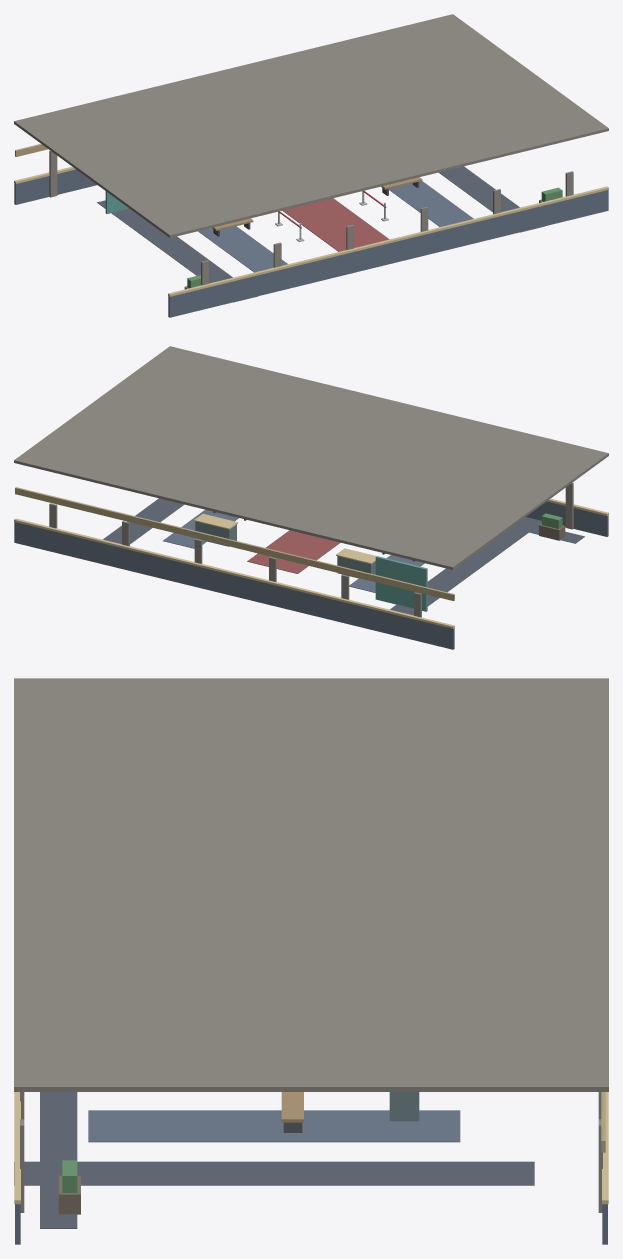
The model's file is arena-concourse-dressing.glb.
3 renders of one model, top to bottom at view 1: azimuth 30°, elevation 25°; view 2: azimuth 150°, elevation 25°; view 3: azimuth 270°, elevation 25°, orthographic. The views are drawn at different scales.
Visible parts, largest first — view 1: ConcourseCeil, WainscotSouth, CarpetRunner, FloorBorder, ChairRailSouth, AisleStrip, AisleStrip.001, WainscotNorth, FloorBorder.001; view 2: ConcourseCeil, WainscotNorth, HeaderNorth, FloorBorder, ChairRailNorth, IrisBackdrop, CarpetRunner, WainscotSouth, FloorBorder.001, AisleStrip.001, ServiceCounter.001, AisleStrip (+1 smaller); view 3: ConcourseCeil, FloorBorder.001, AisleStrip.001, SouthThreshold.001, ServiceCounter.001.
Part boxes in pixels (bbox=[...]): ConcourseCeil: bbox=[14, 14, 608, 237]; WainscotSouth: bbox=[168, 190, 608, 317]; CarpetRunner: bbox=[282, 198, 389, 251]; FloorBorder: bbox=[97, 200, 258, 302]; ChairRailSouth: bbox=[168, 186, 608, 296]; AisleStrip: bbox=[198, 226, 287, 272]; AisleStrip.001: bbox=[389, 181, 473, 226]; WainscotNorth: bbox=[14, 169, 96, 204]; FloorBorder.001: bbox=[438, 166, 545, 232]; ConcourseCeil: bbox=[14, 346, 608, 569]; WainscotNorth: bbox=[14, 522, 454, 649]; HeaderNorth: bbox=[15, 487, 454, 600]; FloorBorder: bbox=[390, 517, 541, 615]; ChairRailNorth: bbox=[14, 518, 454, 628]; IrisBackdrop: bbox=[375, 556, 427, 611]; CarpetRunner: bbox=[247, 530, 340, 573]; WainscotSouth: bbox=[526, 501, 608, 536]; FloorBorder.001: bbox=[103, 498, 184, 544]; AisleStrip.001: bbox=[163, 509, 238, 548]; ServiceCounter.001: bbox=[195, 521, 236, 546]; AisleStrip: bbox=[349, 555, 424, 592]; ConcourseCeil: bbox=[14, 678, 608, 1091]; FloorBorder.001: bbox=[14, 1161, 534, 1185]; AisleStrip.001: bbox=[88, 1110, 460, 1142]; SouthThreshold.001: bbox=[40, 1092, 77, 1228]; ServiceCounter.001: bbox=[389, 1092, 419, 1121].
Size of the model in its own units: 26 by 4.67 by 16.
